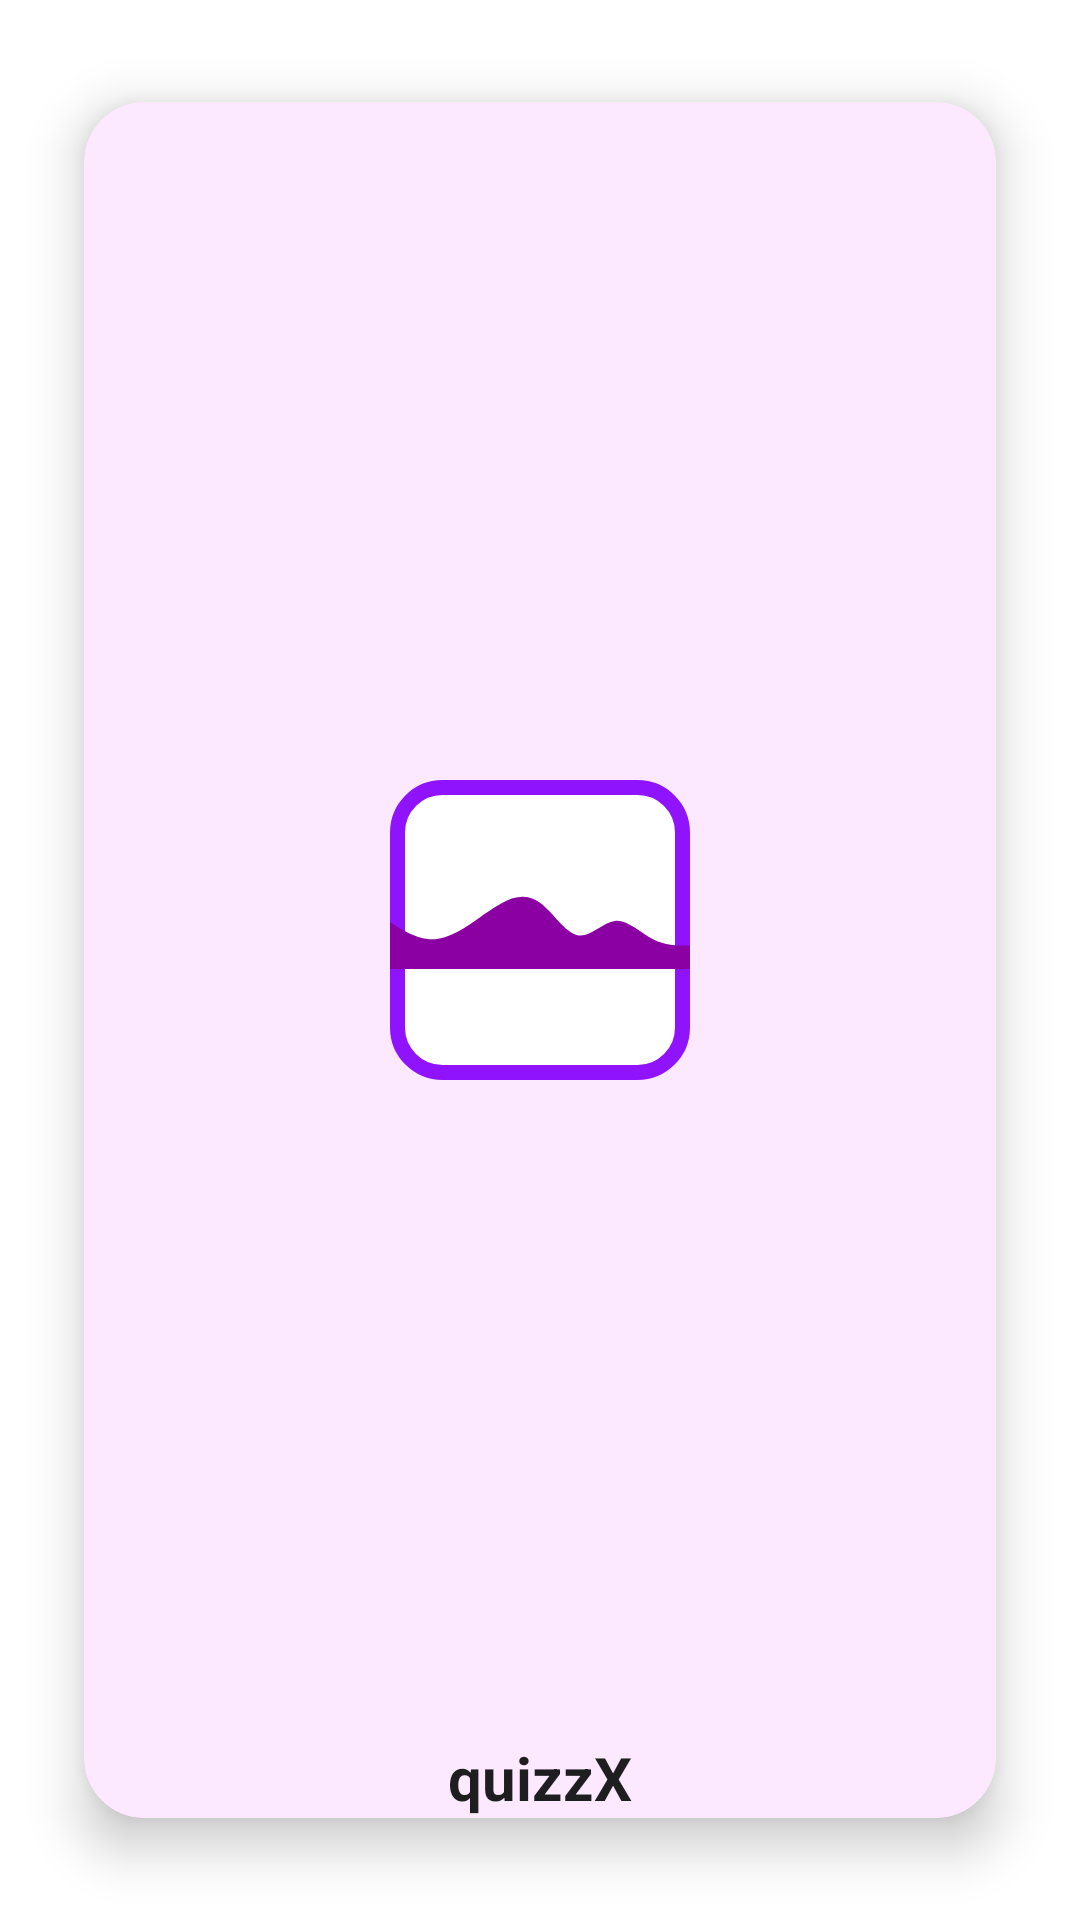

Locate icon controls on the screen. Image size 1080 × 1920, boxes as (left=x1, top=y1, right=x2, bottom=y2).
wave: (left=390, top=780, right=690, bottom=1080)
